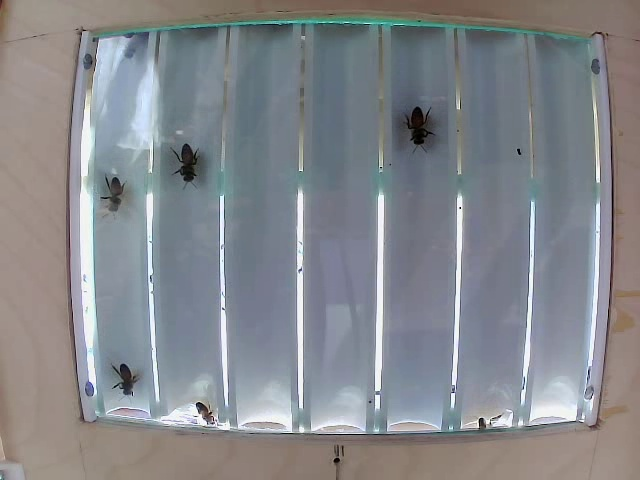bee: (395, 101, 438, 163), (170, 136, 210, 189), (89, 165, 130, 212), (107, 359, 142, 399)
